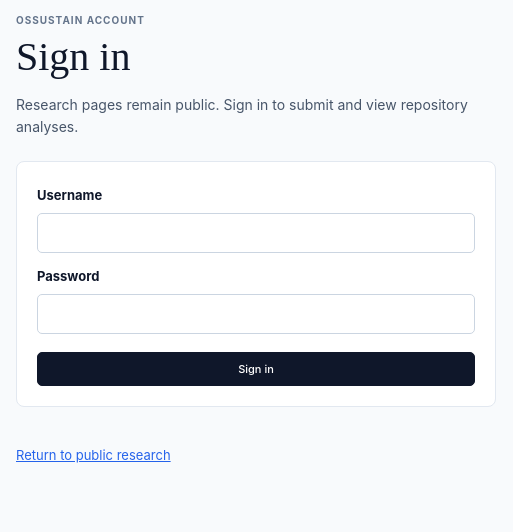
it: account pages › shows a credential error without exposing account details
Type "unknown" into the field labelled "Username". click: {"x": 256, "y": 233}
box: [37, 213, 475, 253]
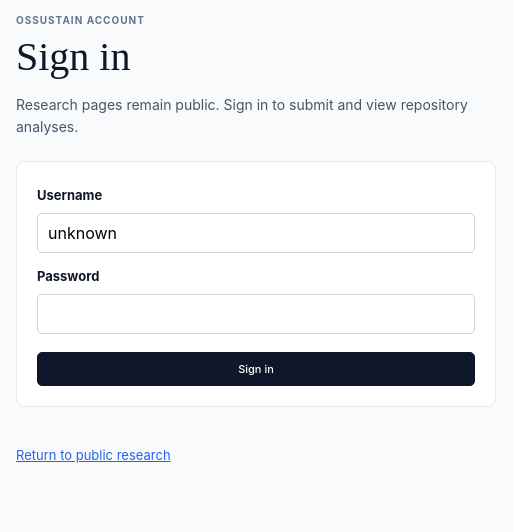
Type "wrong-password" into the password field labelled "Password". click: {"x": 256, "y": 314}
box: [37, 294, 475, 334]
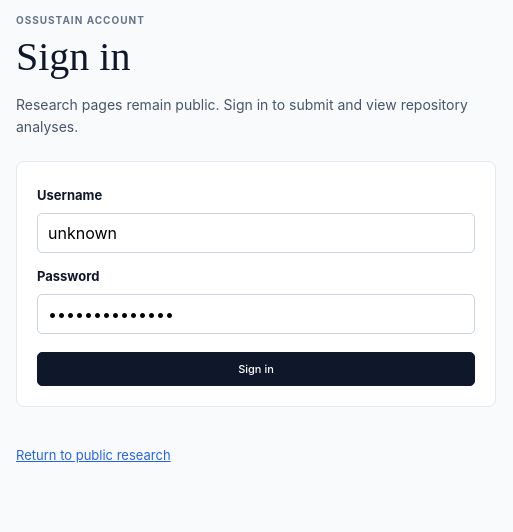
Click the button "Sign in". click: {"x": 256, "y": 369}
box: [37, 352, 475, 386]
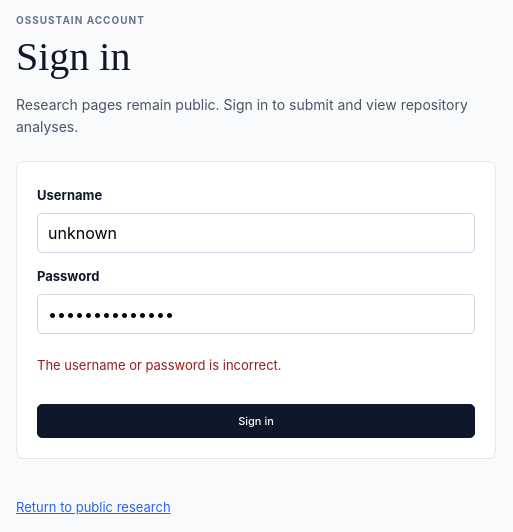
Expected: the message shows "username or password is incorrect", [37, 357, 282, 373]
